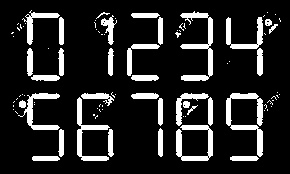eight: (175, 93, 213, 162)
five: (27, 94, 65, 162)
four: (224, 16, 262, 76)
nine: (226, 93, 262, 161)
one: (108, 16, 114, 76)
seven: (130, 93, 163, 157)
six: (77, 93, 113, 162)
three: (178, 13, 214, 81)
two: (127, 13, 163, 81)
zero: (26, 13, 65, 81)
